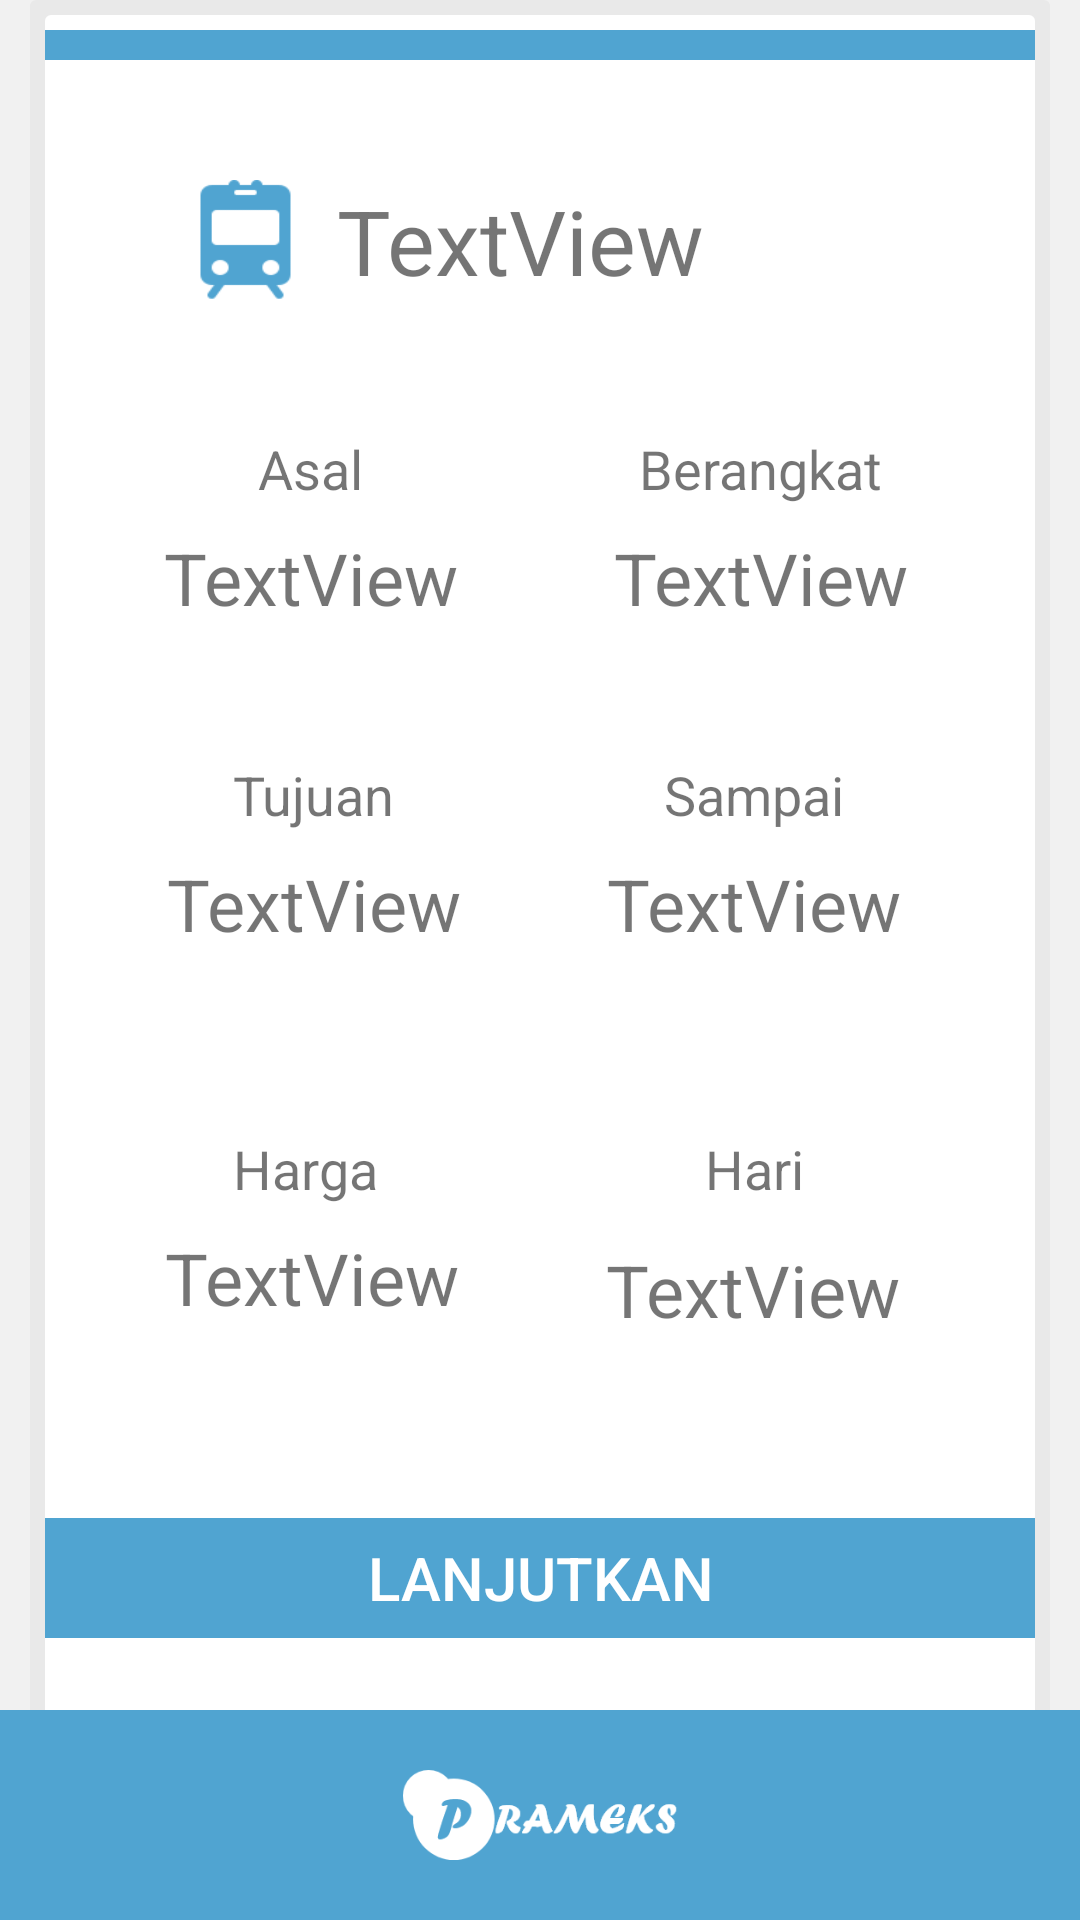

Locate icon controls on the screen. Image size 1080 x 1920, boxes as (x1, y1, x2, y2).
train: (200, 180, 291, 299)
